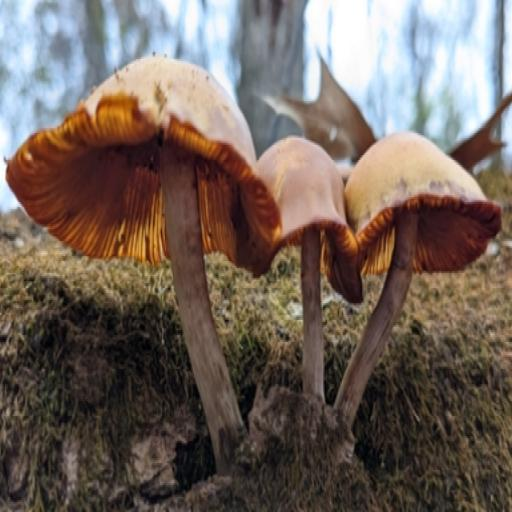Funeral Bell: (4, 51, 504, 467)
